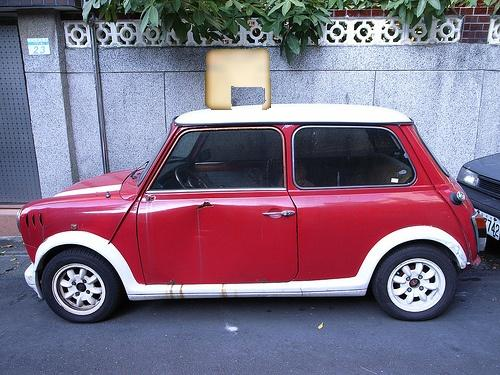tampered: (206, 49, 271, 110)
